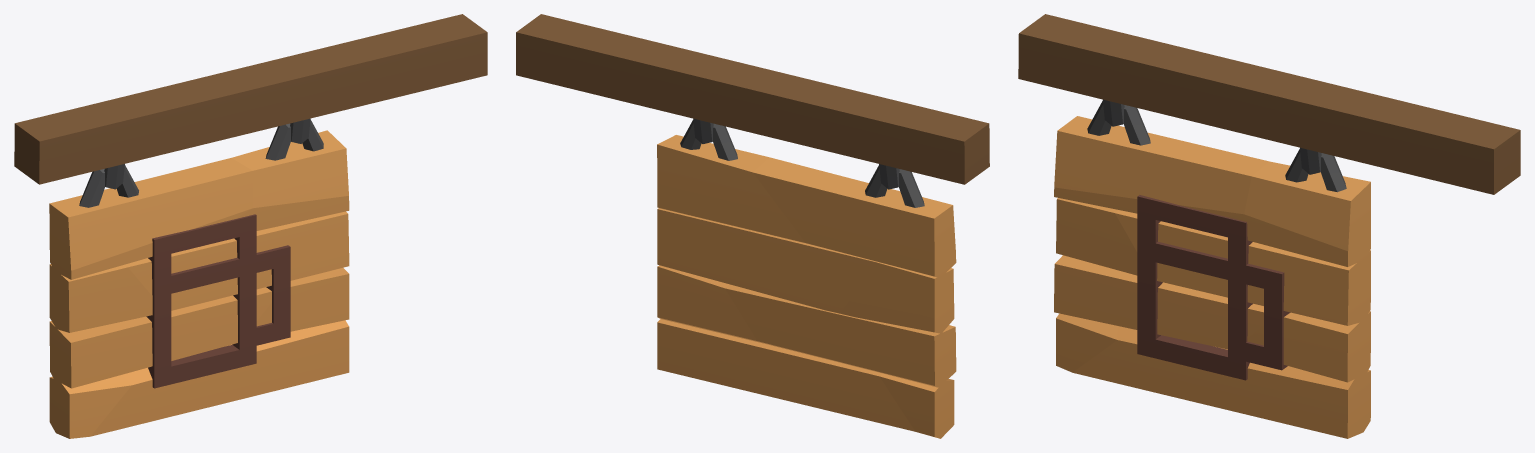
File: Market_Sign_C.fbx
The picture shows the model from 3 angles, left to right: view 1: azimuth 30°, elevation 25°; view 2: azimuth 150°, elevation 25°; view 3: azimuth 330°, elevation 25°; orthographic projection. The views are drawn at different scales.
Parts seen in each view (by area): view 1: Market_Sign_C; view 2: Market_Sign_C; view 3: Market_Sign_C.
Boxes of the visible parts, box(x1,y1,x2,y2) form: Market_Sign_C: box(14, 14, 487, 438); Market_Sign_C: box(516, 14, 989, 438); Market_Sign_C: box(1018, 14, 1520, 438).
Size of the model in its own units: 158 by 105 by 16.06.
